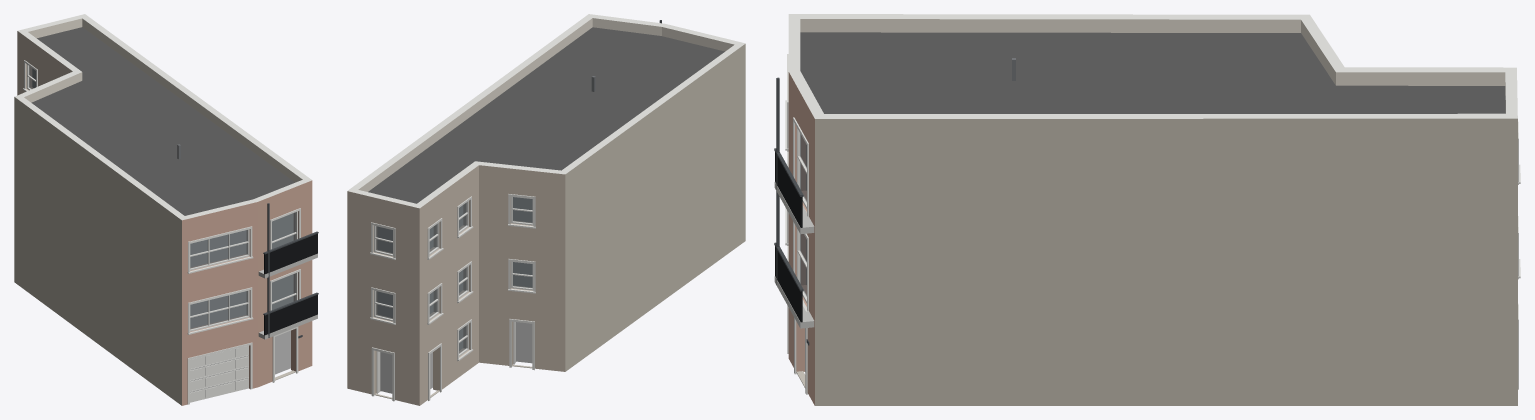
The model's file is exterior.glb.
3 renders of one model, left to right at view 1: azimuth 30°, elevation 25°; view 2: azimuth 150°, elevation 25°; view 3: azimuth 270°, elevation 25°, orthographic. The views are drawn at different scales.
Visible parts, largest first — view 1: shell, roof, shadow-proxy, glazing, gallery, doors, trim, frames; view 2: shell, roof, trim, shadow-proxy, glazing, frames, doors; view 3: shell, roof, gallery, trim, glazing.
Boxes of the visible parts, x1=… form: shell: x1=14, y1=14, x2=312, y2=405; roof: x1=31, y1=27, x2=294, y2=215; shadow-proxy: x1=32, y1=69, x2=293, y2=374; glazing: x1=29, y1=66, x2=295, y2=329; gallery: x1=258, y1=203, x2=318, y2=339; doors: x1=187, y1=342, x2=295, y2=404; trim: x1=23, y1=60, x2=302, y2=382; frames: x1=27, y1=64, x2=297, y2=331; shell: x1=347, y1=14, x2=745, y2=405; roof: x1=368, y1=27, x2=724, y2=203; trim: x1=370, y1=194, x2=535, y2=401; shadow-proxy: x1=377, y1=197, x2=532, y2=393; glazing: x1=376, y1=197, x2=532, y2=353; frames: x1=374, y1=196, x2=533, y2=356; doors: x1=374, y1=321, x2=532, y2=399; shell: x1=788, y1=14, x2=1517, y2=405; roof: x1=800, y1=32, x2=1505, y2=113; gallery: x1=774, y1=77, x2=814, y2=328; trim: x1=785, y1=54, x2=1520, y2=394; glazing: x1=800, y1=133, x2=806, y2=296.
Bounding box in the file's own units: 7.28 × 9.5 × 21.68.
